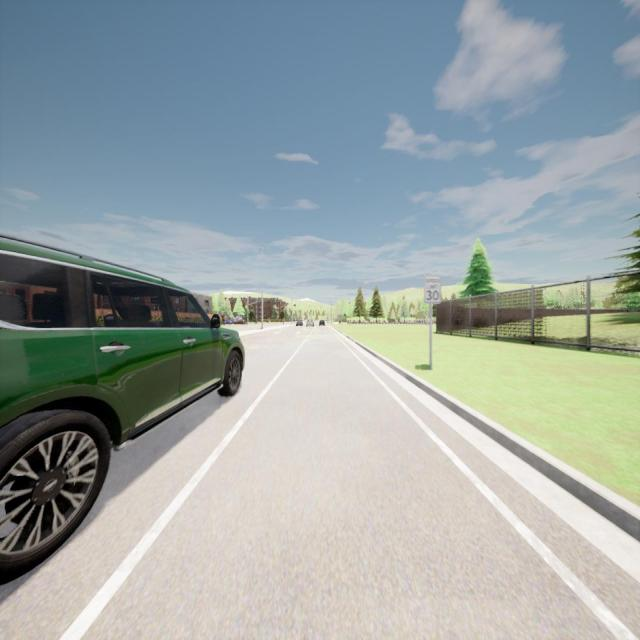Traffic_Signs: (424, 276, 440, 302)
Vehicle: (0, 235, 244, 582), (295, 318, 303, 329), (306, 318, 314, 328), (235, 317, 244, 324), (319, 318, 325, 327), (225, 319, 233, 325)
